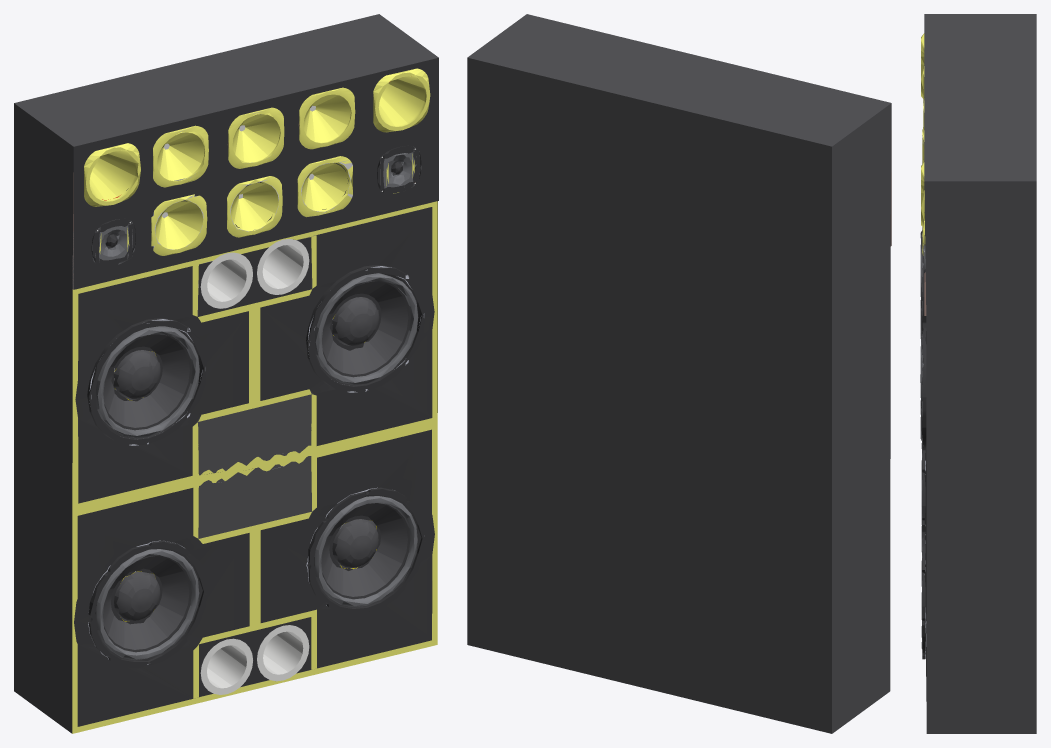
The model's file is caixa.glb.
3 renders of one model, left to right at view 1: azimuth 30°, elevation 25°; view 2: azimuth 150°, elevation 25°; view 3: azimuth 270°, elevation 25°, orthographic. The views are drawn at different scales.
Visible parts, largest first — view 1: black, box, m_ffff31, cone, white; view 2: box; view 3: box, black, cone, m_ffff31.
Boxes of the visible parts, bbox=[...] form: black: bbox=[73, 57, 438, 726]; box: bbox=[14, 14, 438, 733]; m_ffff31: bbox=[72, 68, 437, 733]; cone: bbox=[92, 147, 421, 659]; white: bbox=[114, 239, 332, 694]; box: bbox=[467, 14, 891, 733]; box: bbox=[924, 14, 1036, 733]; black: bbox=[922, 235, 926, 701]; cone: bbox=[920, 230, 926, 648]; m_ffff31: bbox=[921, 33, 925, 255].
Bounding box in the file's own units: 1.95 × 3 × 0.5713.
